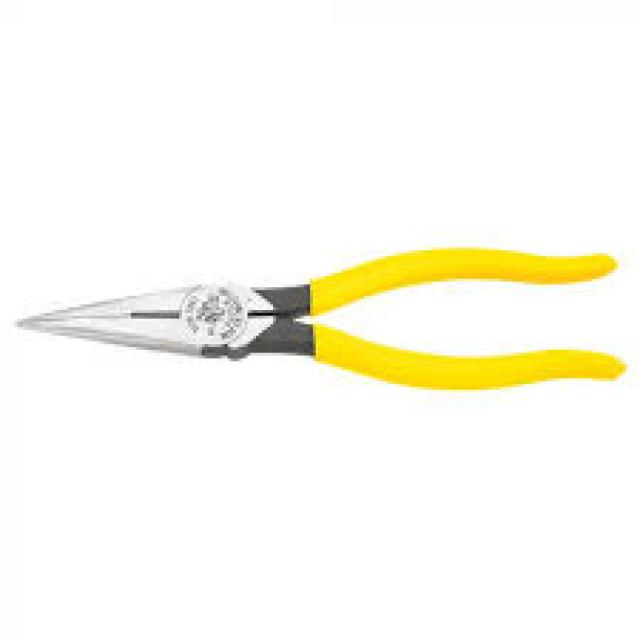Pliers: (12, 240, 637, 399)
